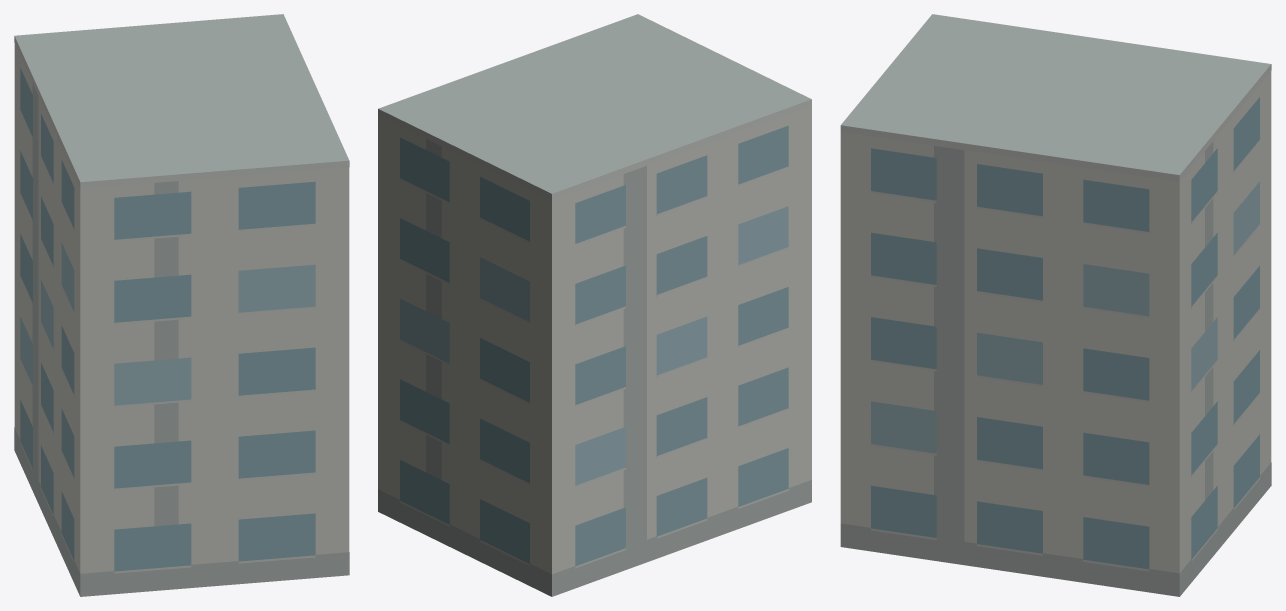
File: residential-f6bdb7fa-4bcf-4e71-99ac-3855db1ca3ce.glb
3 views of the same model, side by side, from view 1: azimuth 30°, elevation 25°; view 2: azimuth 150°, elevation 25°; view 3: azimuth 270°, elevation 25° (orthographic). The views are drawn at different scales.
Visible parts, largest first — view 1: residential-f6bdb7fa-4bcf-4e71-99ac-3855db1ca3ce.tmp; view 2: residential-f6bdb7fa-4bcf-4e71-99ac-3855db1ca3ce.tmp; view 3: residential-f6bdb7fa-4bcf-4e71-99ac-3855db1ca3ce.tmp.
Part boxes in pixels (x1=…): residential-f6bdb7fa-4bcf-4e71-99ac-3855db1ca3ce.tmp: x1=14, y1=14, x2=349, y2=596; residential-f6bdb7fa-4bcf-4e71-99ac-3855db1ca3ce.tmp: x1=378, y1=14, x2=811, y2=596; residential-f6bdb7fa-4bcf-4e71-99ac-3855db1ca3ce.tmp: x1=840, y1=14, x2=1271, y2=596.
Size of the model in its own units: 12.51 by 15.25 by 14.13.
